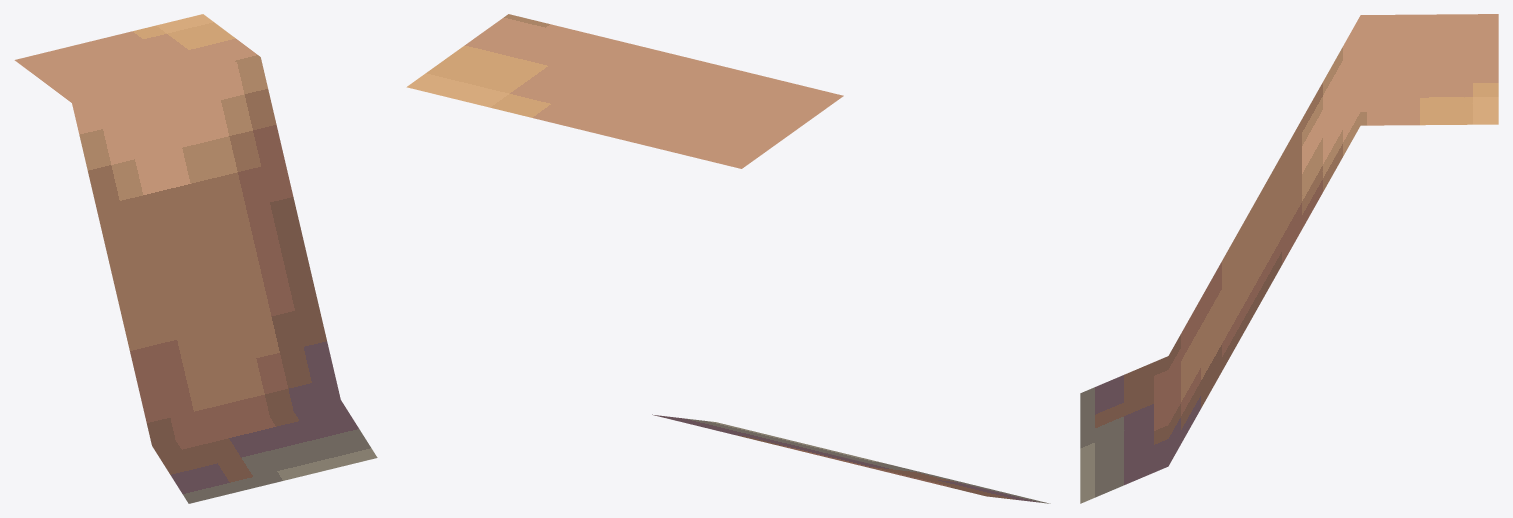
3 views of the same model, side by side, from view 1: azimuth 30°, elevation 25°; view 2: azimuth 150°, elevation 25°; view 3: azimuth 270°, elevation 25° (orthographic). The views are drawn at different scales.
Bounding box in the file's own units: 0.625 × 1 × 1.
Materials: 1 (1 with a texture image).
